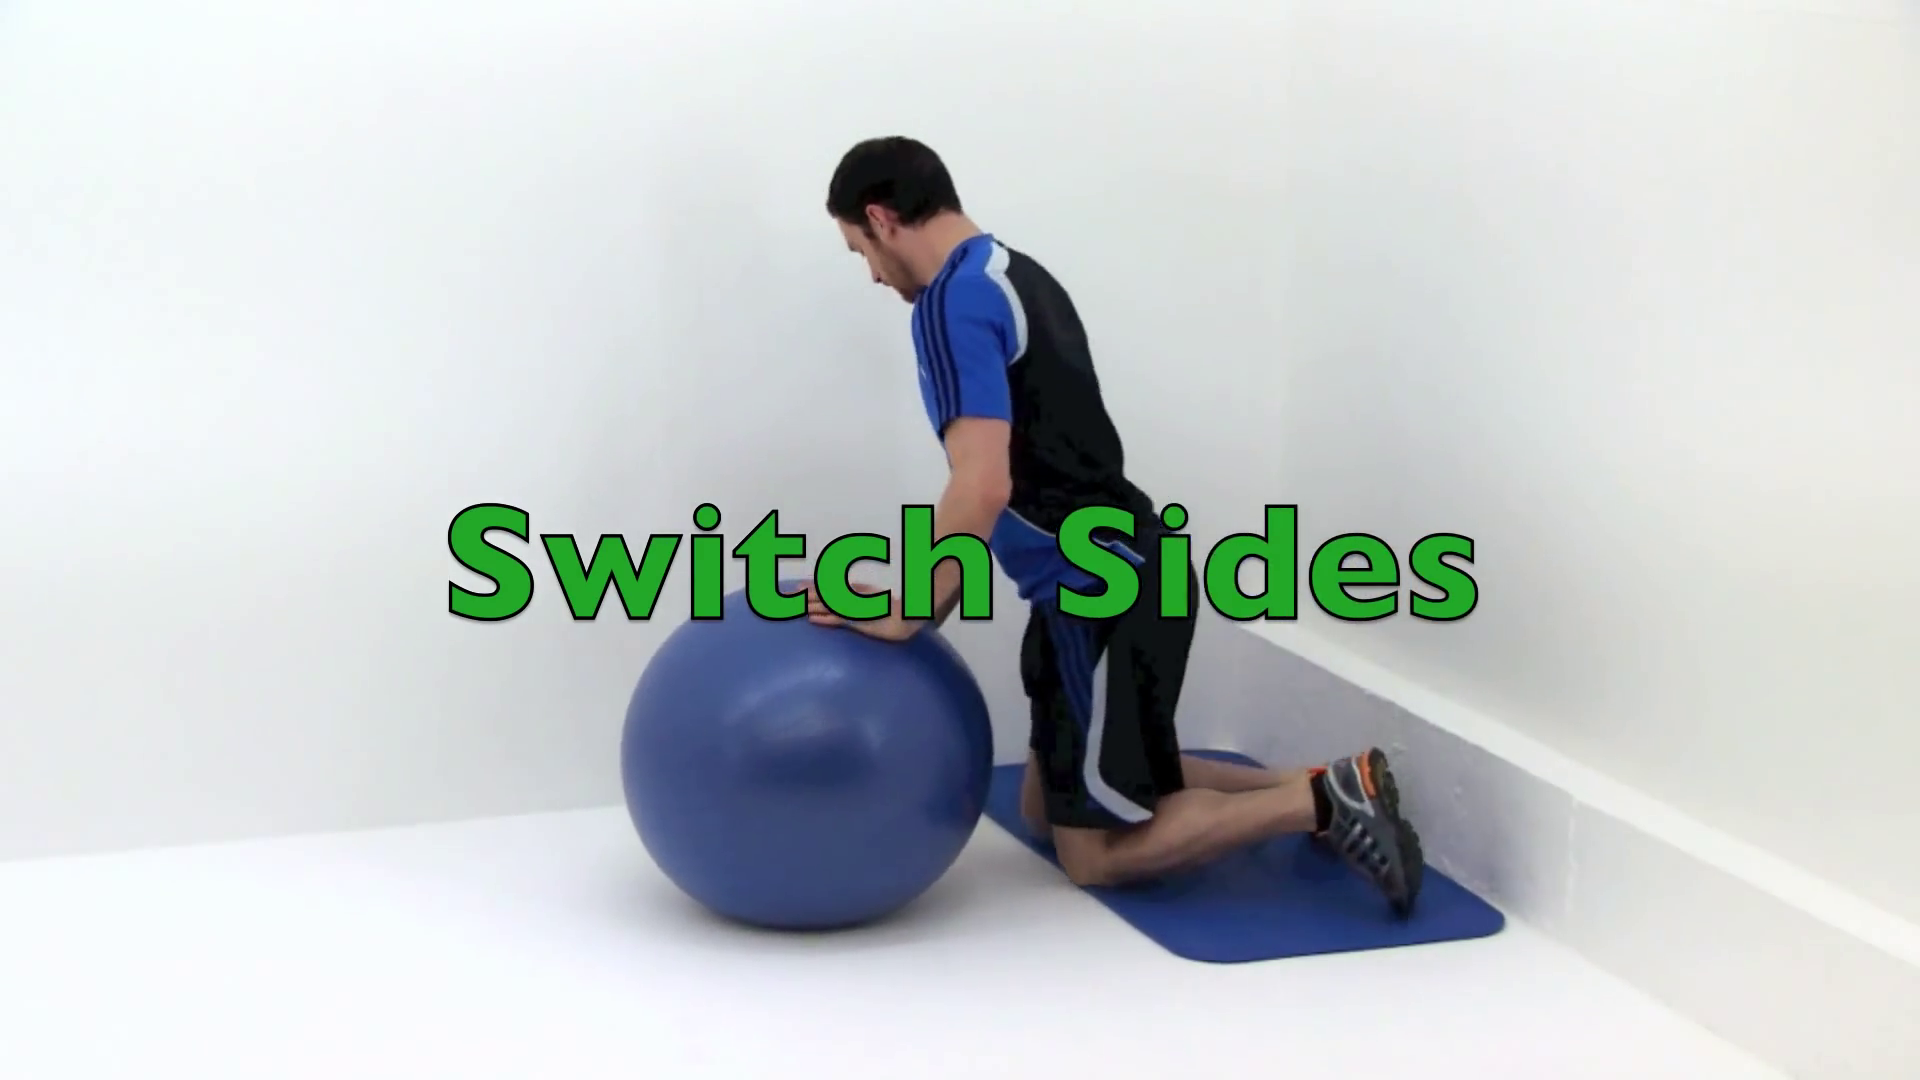yogaball: (618, 595, 997, 945)
